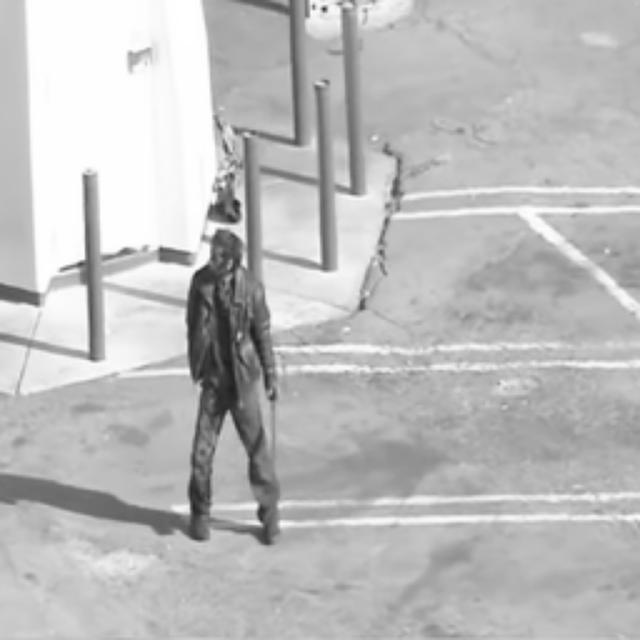Invader: (182, 225, 282, 545)
